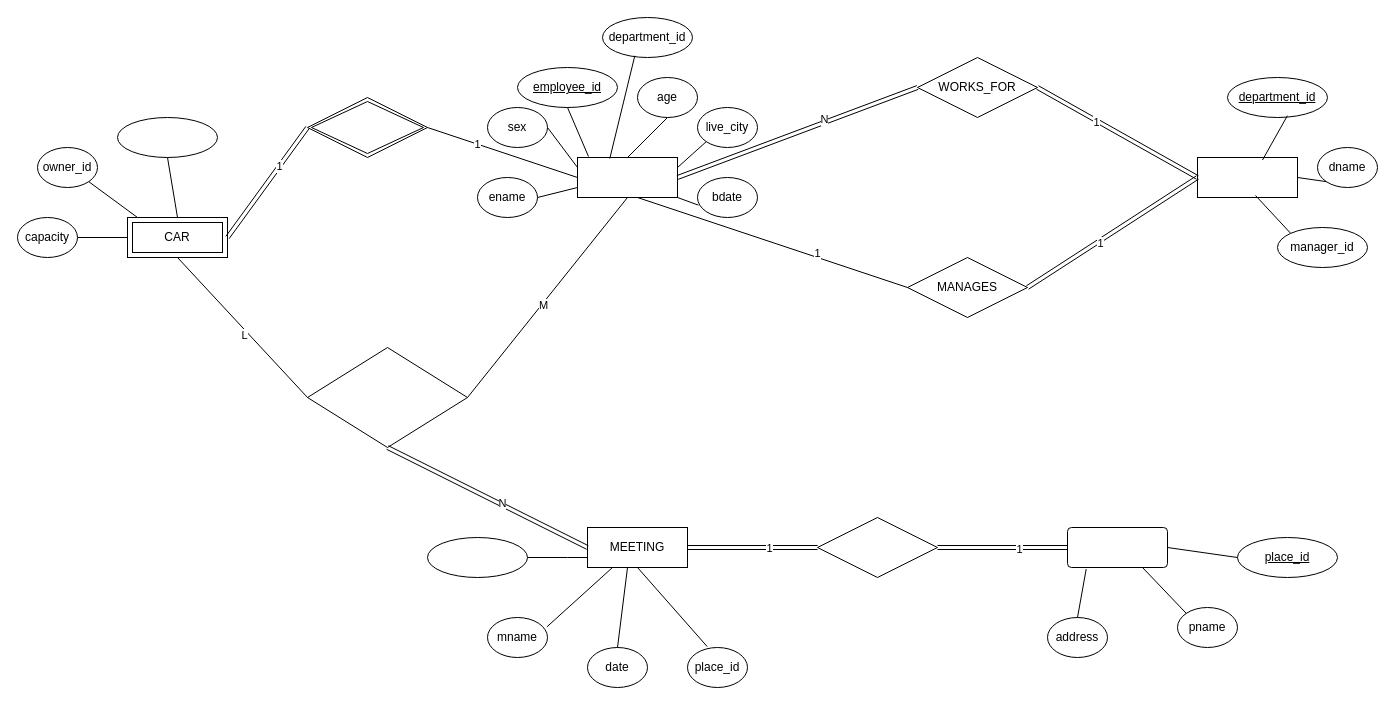
The diagram is 1395 pixels wide and 705 high, and some of its shapes have lost their labels. The box of each missing label's shape, as (x1, y1, x2, y2) in pixels:
car_id: (116, 116, 218, 158)
DEPARTMENT: (1196, 156, 1298, 198)
EMPLOYEE: (576, 156, 678, 198)
meeting_id: (426, 536, 528, 578)
OWN: (306, 96, 428, 158)
PLACE: (1066, 526, 1168, 568)
TAKE_CAR_TO_JOIN: (306, 346, 468, 448)
TAKE_PLACE: (816, 516, 938, 578)
